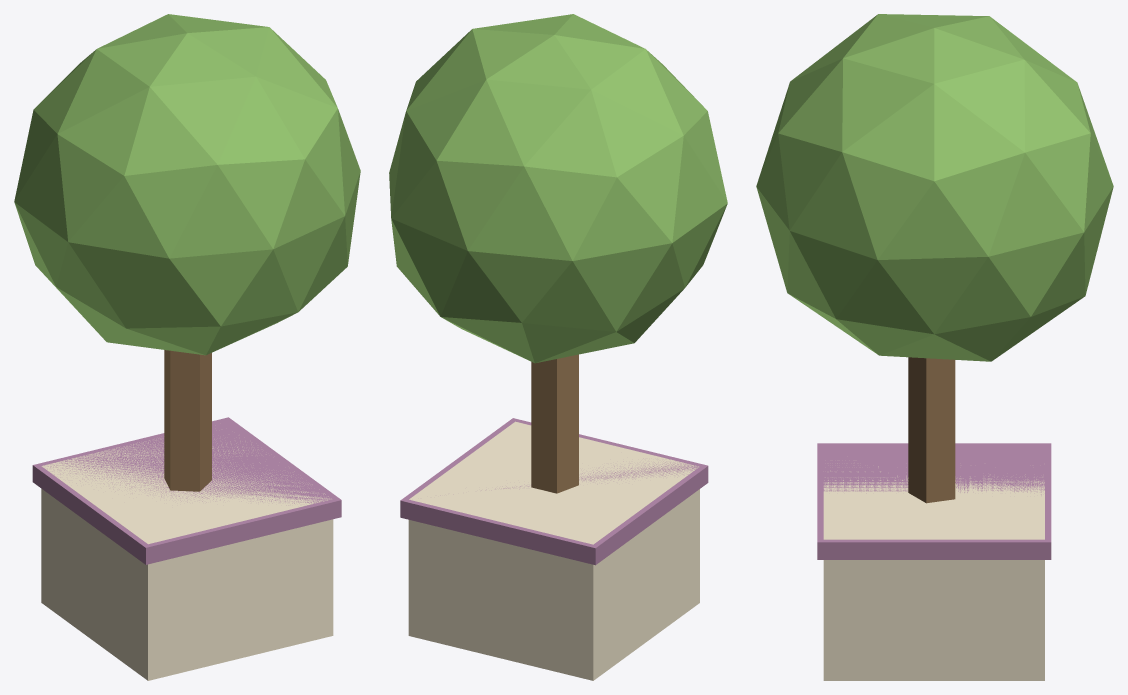
Rendered from planter-tree.glb.
The picture shows the model from 3 angles, left to right: view 1: azimuth 30°, elevation 25°; view 2: azimuth 150°, elevation 25°; view 3: azimuth 270°, elevation 25°; orthographic projection. The views are drawn at different scales.
Visible parts, largest first — view 1: city-planter-tree; view 2: city-planter-tree; view 3: city-planter-tree.
Part boxes in pixels (box(x1,y1,x2,y2)): city-planter-tree: box(14, 14, 360, 680); city-planter-tree: box(389, 14, 727, 680); city-planter-tree: box(756, 14, 1113, 680).
Bounding box in the file's own units: 0.5376 × 1.03 × 0.5497.
